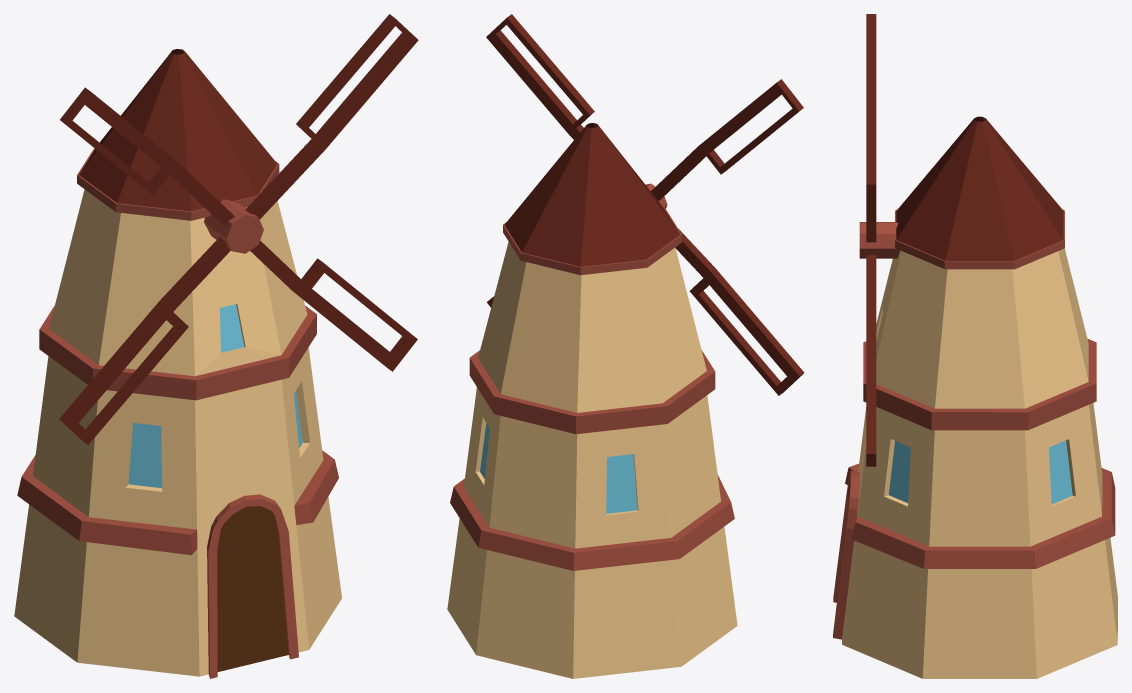
The model's file is molino.fbx.
The picture shows the model from 3 angles, left to right: view 1: azimuth 30°, elevation 25°; view 2: azimuth 150°, elevation 25°; view 3: azimuth 270°, elevation 25°; orthographic projection. The views are drawn at different scales.
Parts seen in each view (by area): view 1: Molino, Aspa2, Aspa1, CentroAspas; view 2: Molino, Aspa2, Aspa1; view 3: Molino, Aspa1, CentroAspas, Aspa2.
Part boxes in pixels (<box>): Molino: <box>14,49,341,678</box>; Aspa2: <box>59,14,418,444</box>; Aspa1: <box>60,87,417,371</box>; CentroAspas: <box>204,199,263,253</box>; Molino: <box>447,123,737,678</box>; Aspa2: <box>486,14,804,395</box>; Aspa1: <box>487,79,803,307</box>; Molino: <box>833,116,1117,678</box>; Aspa1: <box>866,14,876,466</box>; CentroAspas: <box>859,222,899,258</box>; Aspa2: <box>866,149,876,242</box>.
Bounding box in the file's own units: 661 × 1068 × 510.
